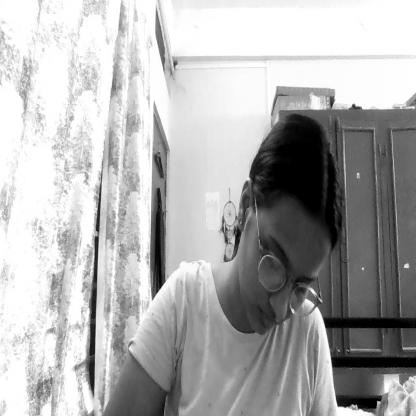Distracted: (238, 117, 340, 332)
